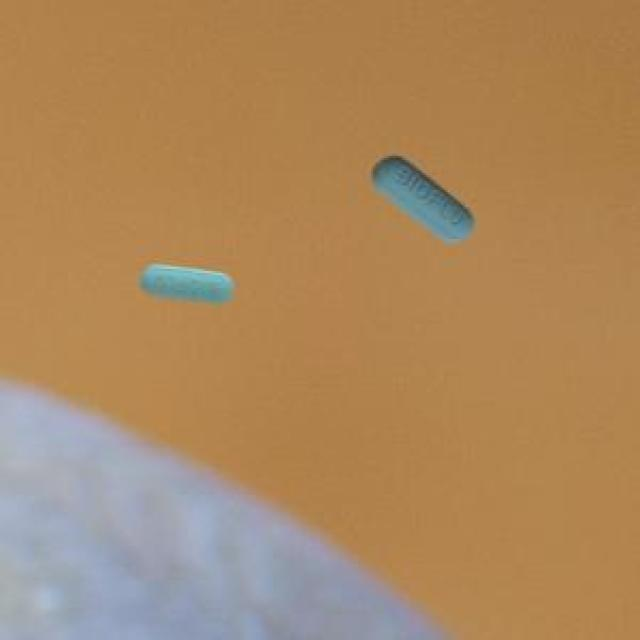Bioflu: (355, 140, 492, 250), (128, 249, 248, 321)
